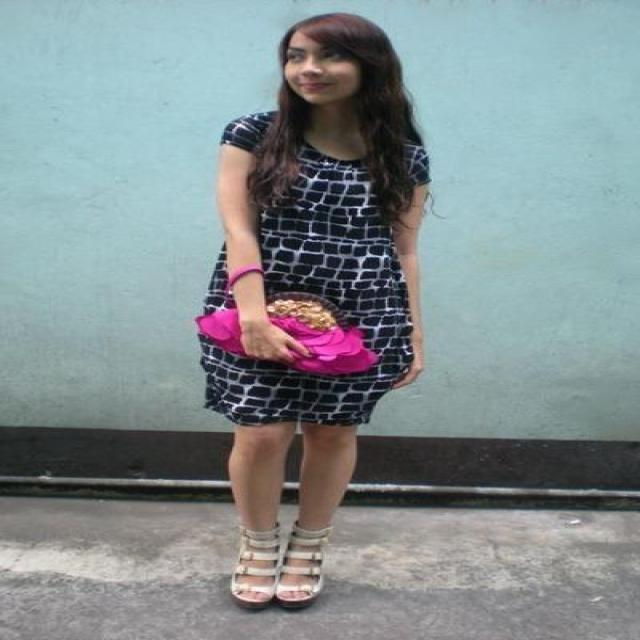bag: (195, 289, 395, 374)
dress: (200, 104, 429, 429)
shoe: (230, 538, 348, 600)
